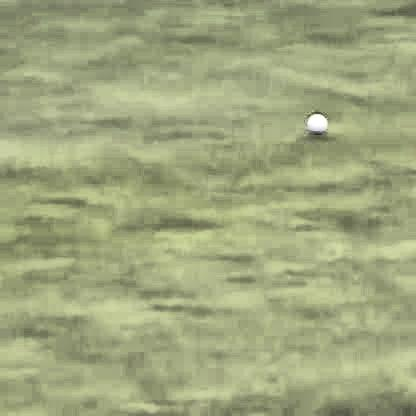golfball: (303, 109, 325, 131)
